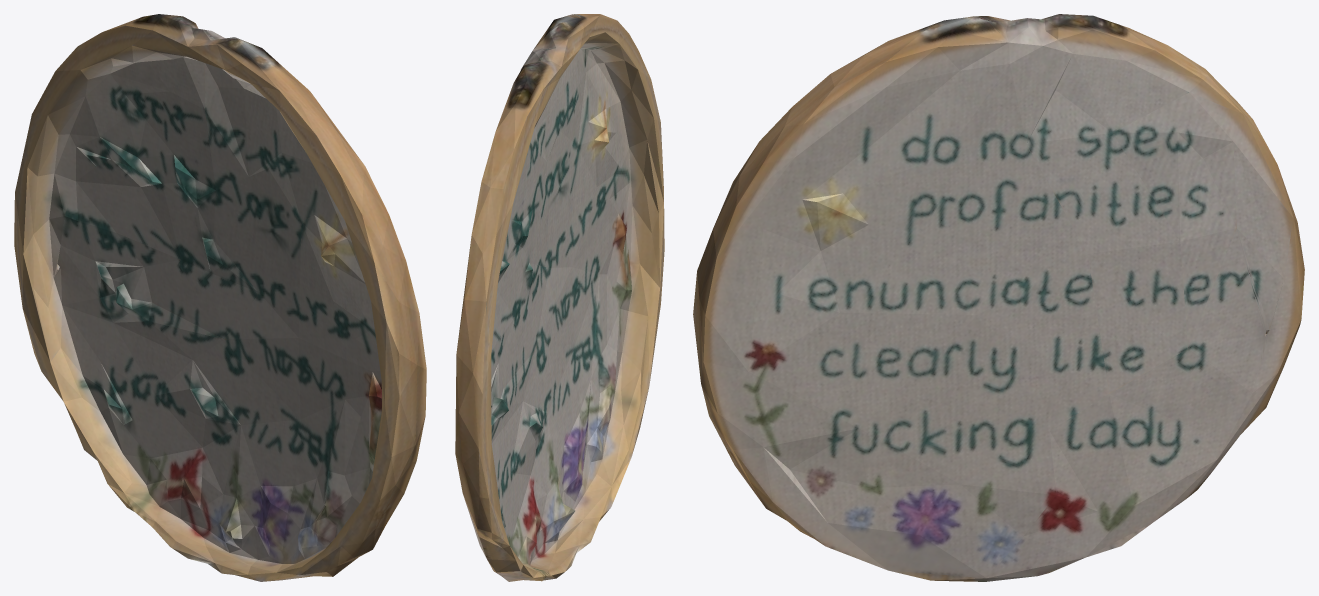
The picture shows the model from 3 angles, left to right: view 1: azimuth 30°, elevation 25°; view 2: azimuth 150°, elevation 25°; view 3: azimuth 270°, elevation 25°; orthographic projection. The views are drawn at different scales.
Visible parts, largest first — view 1: Stickerei Profanities_0.9k_512; view 2: Stickerei Profanities_0.9k_512; view 3: Stickerei Profanities_0.9k_512.
Boxes of the visible parts, bbox=[...] form: Stickerei Profanities_0.9k_512: bbox=[14, 14, 426, 581]; Stickerei Profanities_0.9k_512: bbox=[455, 14, 664, 581]; Stickerei Profanities_0.9k_512: bbox=[693, 14, 1304, 581].
Bounding box in the file's own units: 0.0508 × 0.1932 × 0.1898.
Materials: 1 (1 with a texture image).
